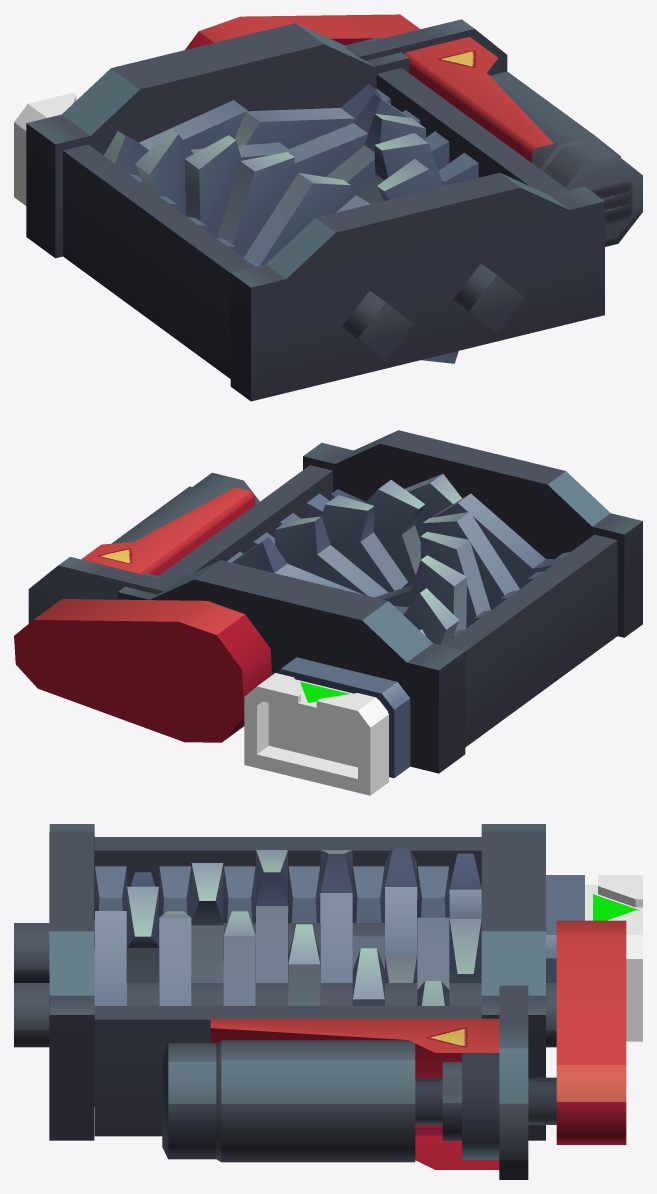
The model's file is Grinder 1.fbx.
3 renders of one model, top to bottom at view 1: azimuth 30°, elevation 25°; view 2: azimuth 150°, elevation 25°; view 3: azimuth 270°, elevation 25°, orthographic. The views are drawn at different scales.
Visible parts, largest first — view 1: FrontWall, BackWall, SideWallL, MotorShield, SideWallR, MotorExhaust, TeethL_3, MotorTransmission, TeethL_2, TeethR_6, TeethL_4, TeethL_6 (+12 smaller); view 2: MotorTransmission, BackWall, FrontWall, SideWallL, Output.001, MotorShield, SideWallR, OutputBase, MotorSuspension, TeethR_3, TeethR_4, TeethR_2 (+9 smaller); view 3: MotorBody, MotorTransmission, FrontWall, SideWallR, BackWall, MotorShield, SideWallL, ShaftR, MotorExhaust, MotorSuspension, Output.001, TeethL_4 (+22 smaller).
Part boxes in pixels (x1,y1,x2,y2): FrontWall: [230, 173, 604, 401]; BackWall: [26, 23, 409, 258]; SideWallL: [63, 144, 254, 378]; MotorShield: [404, 37, 553, 162]; SideWallR: [376, 68, 568, 194]; MotorExhaust: [543, 140, 642, 246]; TeethL_3: [217, 152, 294, 257]; MotorTransmission: [185, 14, 419, 49]; TeethL_2: [243, 173, 350, 265]; TeethR_6: [235, 84, 382, 148]; TeethL_4: [184, 135, 241, 238]; TeethL_6: [103, 100, 247, 176]; MotorTransmission: [14, 599, 271, 742]; BackWall: [117, 560, 465, 773]; FrontWall: [303, 430, 642, 637]; SideWallL: [443, 534, 617, 747]; Output.001: [244, 673, 388, 795]; MotorShield: [81, 487, 255, 575]; SideWallR: [158, 465, 332, 580]; OutputBase: [276, 657, 410, 778]; MotorSuspension: [28, 557, 175, 623]; TeethR_3: [321, 495, 407, 592]; TeethR_4: [274, 516, 388, 597]; TeethR_2: [365, 480, 424, 581]; MotorBody: [216, 1040, 415, 1162]; MotorTransmission: [556, 920, 626, 1144]; FrontWall: [49, 824, 94, 1140]; SideWallR: [94, 1006, 481, 1136]; BackWall: [481, 824, 545, 1140]; MotorShield: [210, 1018, 499, 1169]; SideWallL: [94, 837, 481, 922]; ShaftR: [14, 983, 556, 1047]; MotorExhaust: [162, 1043, 216, 1159]; MotorSuspension: [499, 985, 528, 1179]; Output.001: [585, 875, 642, 1041]; TeethL_4: [320, 850, 352, 982].
Bounding box in the file's own units: 182 × 69.45 × 195.
